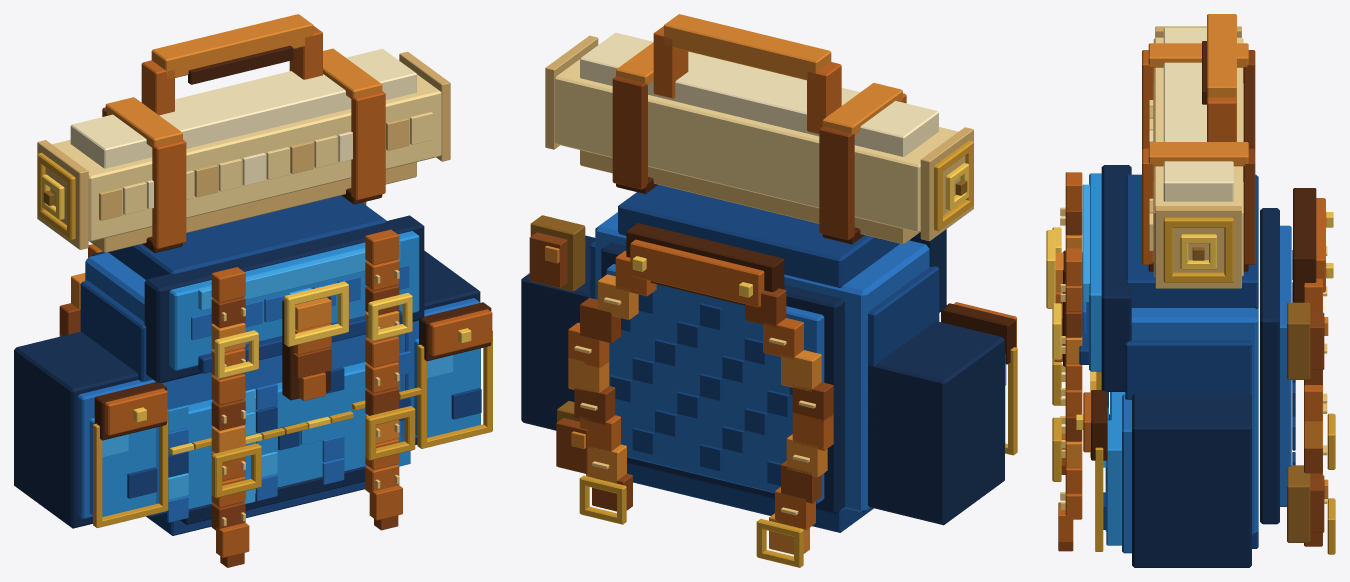
The model's file is FishingBackpack.glb.
The picture shows the model from 3 angles, left to right: view 1: azimuth 30°, elevation 25°; view 2: azimuth 150°, elevation 25°; view 3: azimuth 270°, elevation 25°; orthographic projection. The views are drawn at different scales.
Parts seen in each view (by area): view 1: FishingBackpack_Voxel; view 2: FishingBackpack_Voxel; view 3: FishingBackpack_Voxel.
Part boxes in pixels (left/top/right/bottom): FishingBackpack_Voxel: left=14, top=14, right=492, bottom=567; FishingBackpack_Voxel: left=521, top=14, right=1017, bottom=567; FishingBackpack_Voxel: left=1046, top=14, right=1335, bottom=567.
Size of the model in its own units: 0.72 by 0.7585 by 0.433.
